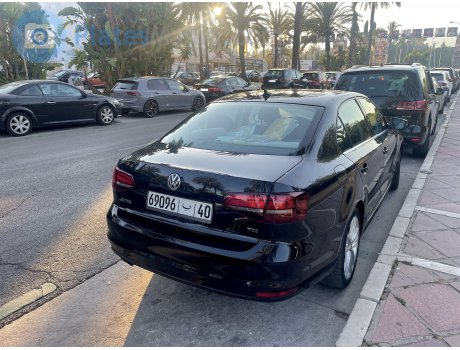number_plate: (146, 188, 213, 223)
